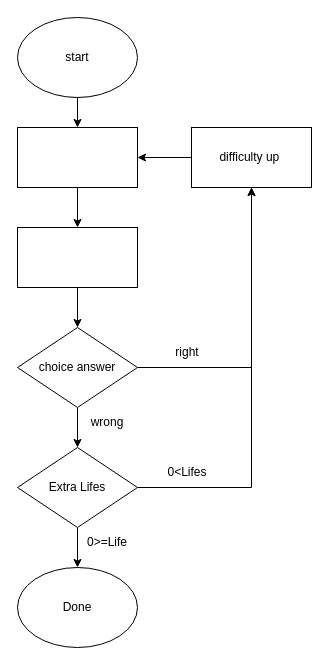
This 329x665 diagram has some shape labels left out. The box of each missing label's shape, as (x1, y1, x2, y2) in pixels:
play note(random): (16, 226, 138, 288)
timer(3 second): (16, 126, 138, 188)
